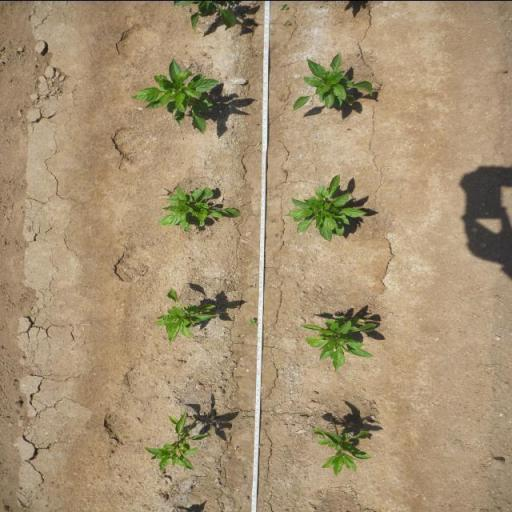plant: (127, 55, 224, 138), (281, 170, 369, 244), (287, 49, 376, 115), (142, 408, 217, 478), (298, 312, 380, 373), (154, 180, 243, 234), (151, 284, 224, 346), (308, 416, 372, 474), (166, 0, 237, 36)
weed: (278, 0, 290, 10), (247, 317, 257, 326), (284, 19, 293, 26), (256, 146, 262, 153), (268, 218, 276, 223), (258, 442, 264, 448), (273, 232, 281, 236)
